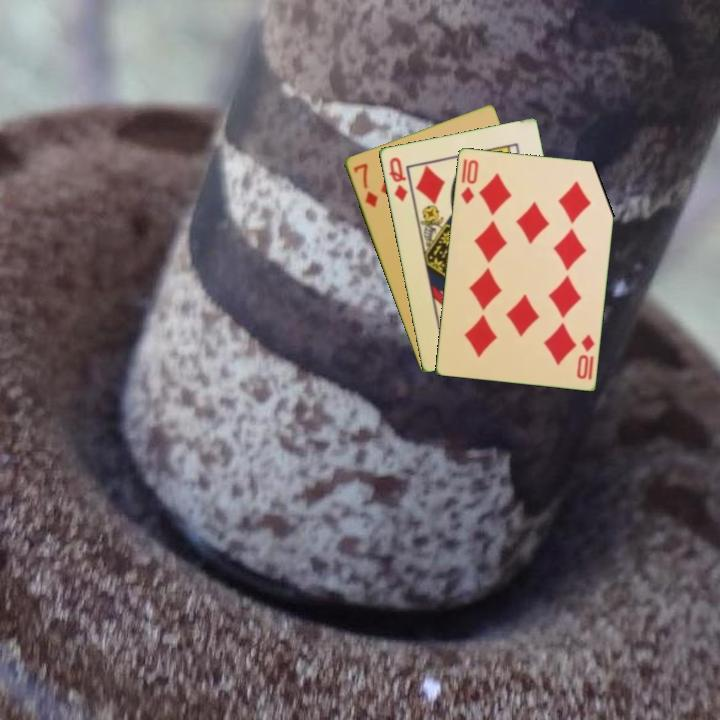10d: (573, 331, 597, 382), (457, 156, 481, 206)
7d: (350, 159, 380, 210)
Qd: (385, 153, 410, 204)
